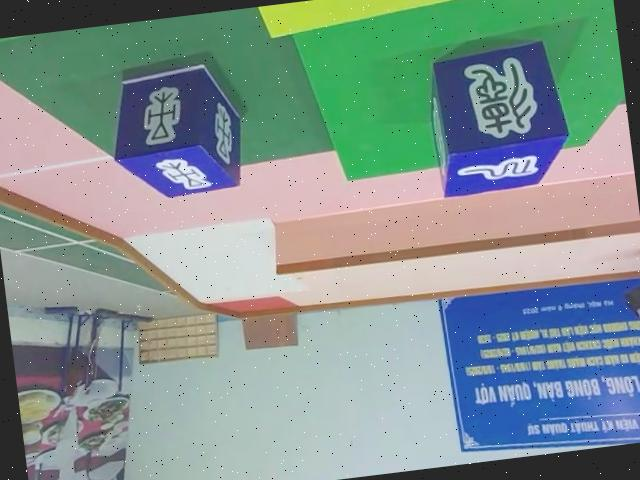R2 Fake Blue: (423, 37, 575, 200)
R2 Real Blue: (101, 56, 245, 201)
